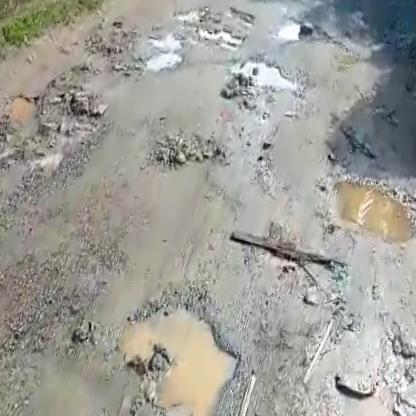pothole: (88, 280, 255, 416), (2, 43, 116, 157), (317, 165, 416, 251), (6, 290, 96, 367), (216, 47, 306, 115), (178, 6, 259, 51), (127, 25, 189, 83)
